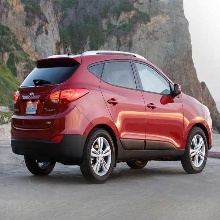no damage: (11, 50, 213, 183)
